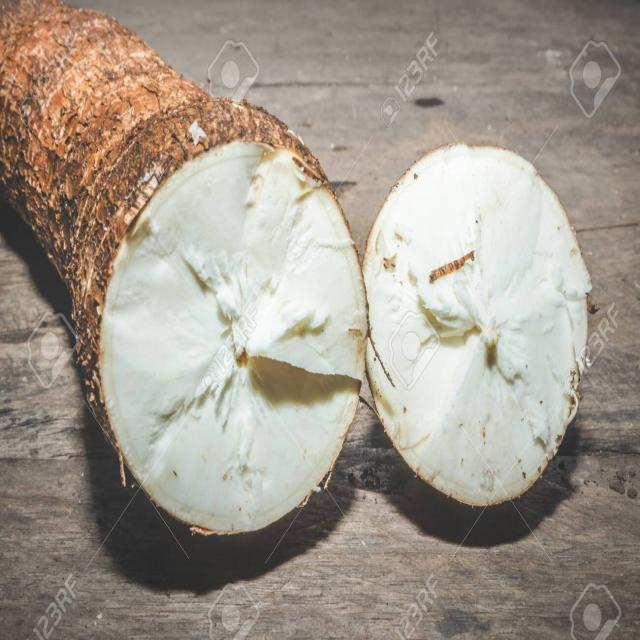yuca: (12, 1, 359, 552), (359, 115, 602, 532)
